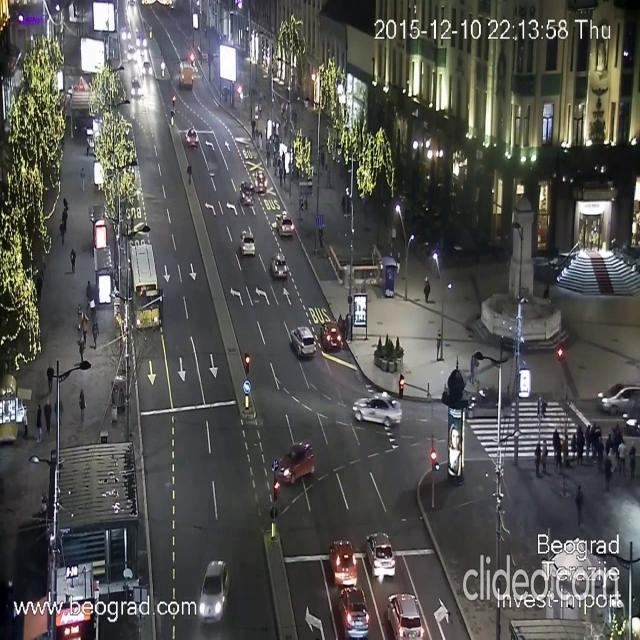bus: (129, 238, 161, 327)
car: (198, 559, 230, 624), (387, 592, 425, 639), (276, 441, 316, 485), (338, 587, 371, 640), (458, 386, 512, 418), (352, 393, 402, 427), (365, 532, 395, 580), (328, 538, 357, 586), (597, 382, 640, 414), (290, 326, 316, 358), (320, 321, 342, 351), (622, 404, 640, 438), (270, 253, 288, 279), (276, 209, 294, 235), (178, 63, 193, 92), (239, 229, 255, 256), (254, 169, 268, 196), (241, 183, 255, 206), (184, 125, 197, 147), (131, 80, 141, 102), (137, 30, 147, 51), (142, 59, 152, 77), (128, 49, 138, 67), (122, 27, 134, 42)
